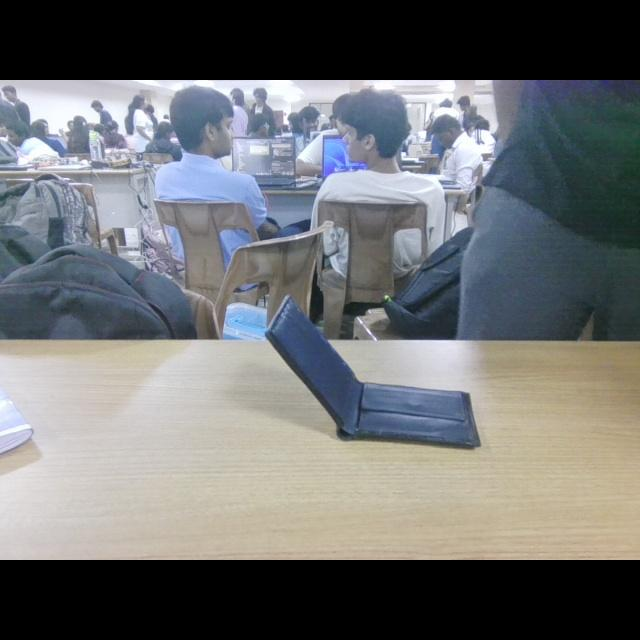wallet: (262, 282, 494, 458)
